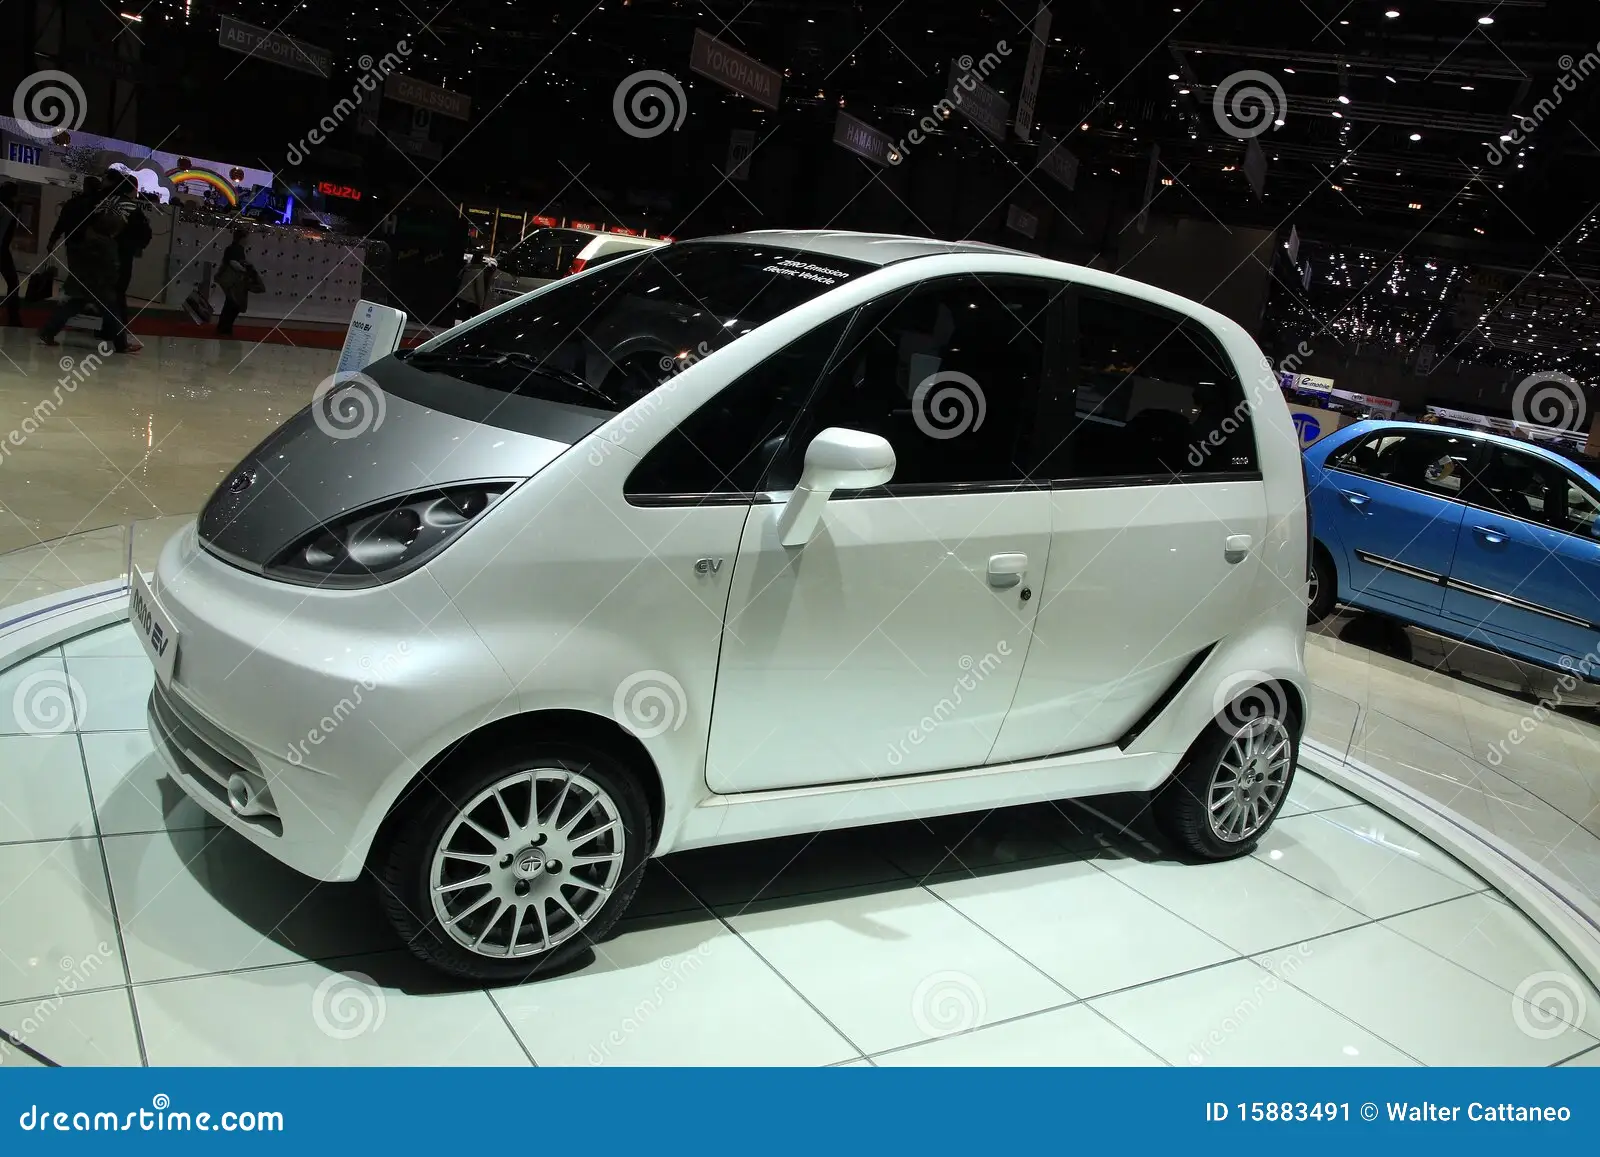Nano: (142, 221, 1320, 982)
